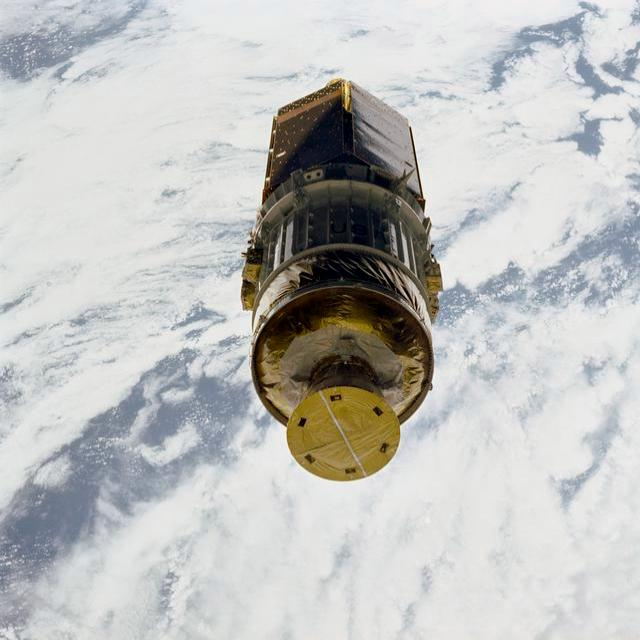medium_debris: (241, 79, 442, 481)
